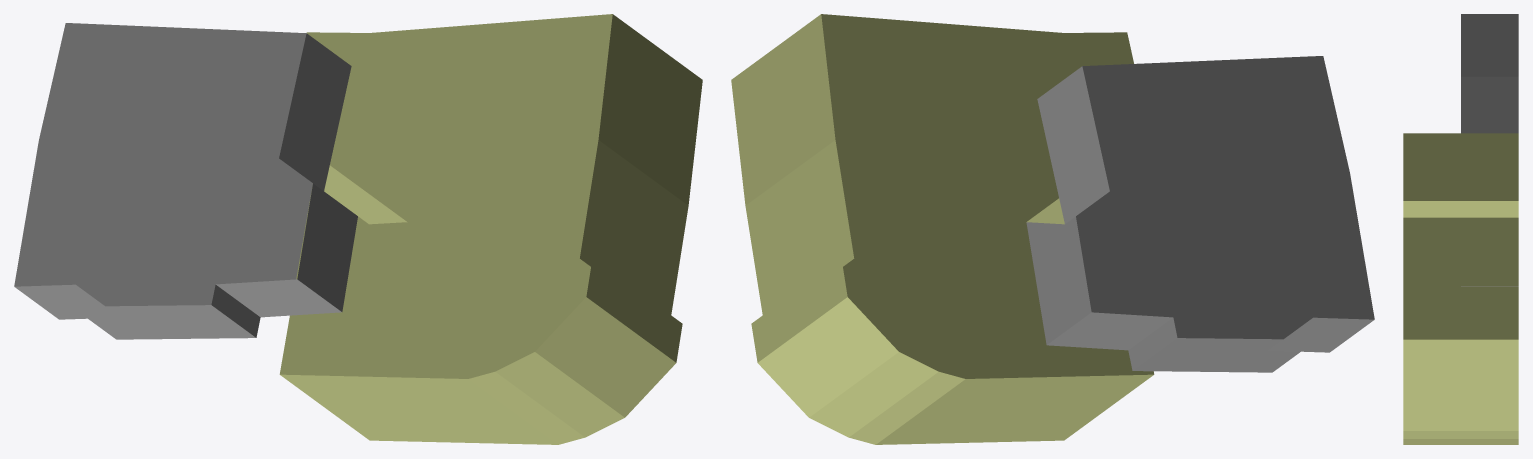
3 renders of one model, left to right at view 1: azimuth 30°, elevation 25°; view 2: azimuth 150°, elevation 25°; view 3: azimuth 270°, elevation 25°, orthographic. The views are drawn at different scales.
Visible parts, largest first — view 1: 0_1_0_0_1_0_0_3_2_3; view 2: 0_1_0_0_1_0_0_3_2_3; view 3: 0_1_0_0_1_0_0_3_2_3.
Part boxes in pixels (left/top/right/bottom): 0_1_0_0_1_0_0_3_2_3: left=14, top=14, right=702, bottom=444; 0_1_0_0_1_0_0_3_2_3: left=731, top=14, right=1374, bottom=444; 0_1_0_0_1_0_0_3_2_3: left=1403, top=14, right=1518, bottom=444.
Size of the model in its own units: 23.02 by 16.7 by 6.
